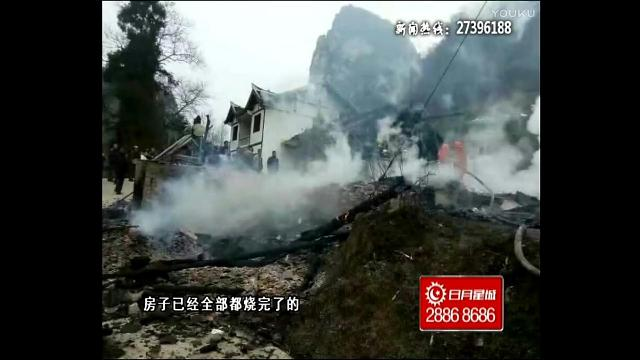smoke: (128, 190, 318, 240), (178, 154, 366, 190), (422, 156, 540, 194), (468, 86, 522, 154), (380, 120, 420, 182)
